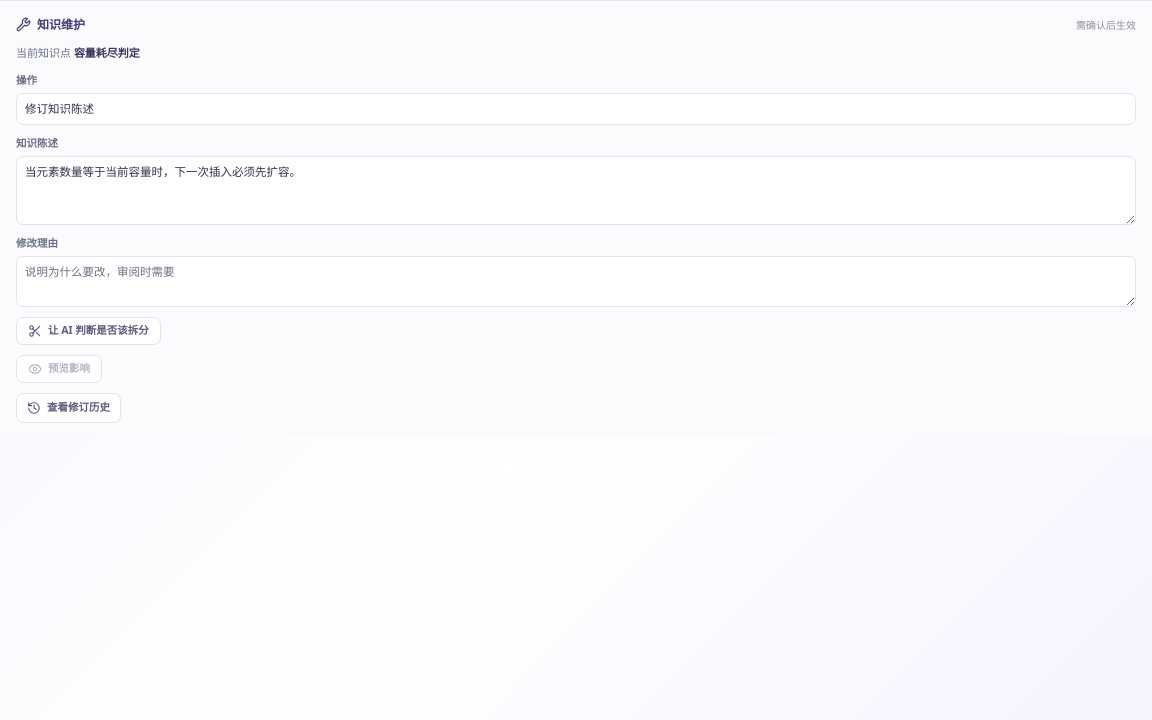
it: 知识维护面板 › 不可确认的候选禁用确认按钮并展示阻断原因
Type "补充扩容触发条件的精确表述" into the text box labelled "修改理由".
click(576, 281); type("补充扩容触发条件的精确表述")  # box [16, 256, 1136, 306]
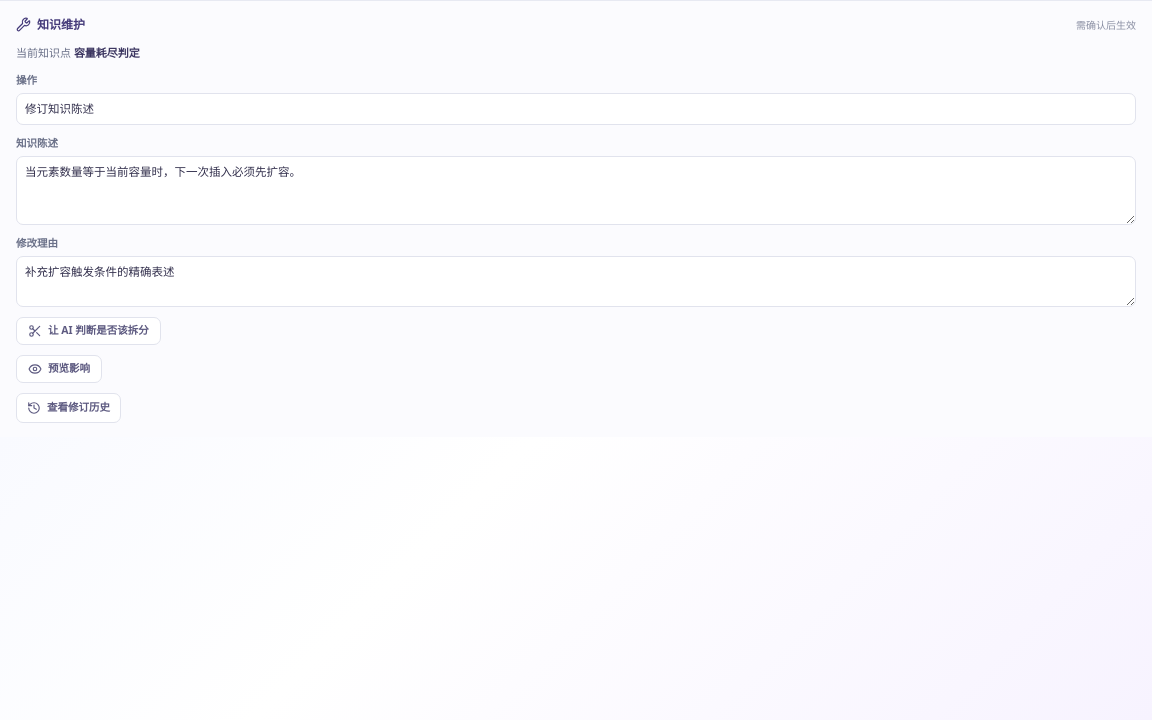
Click the button with class "is-preview".
click(59, 368)  # box [16, 354, 102, 382]
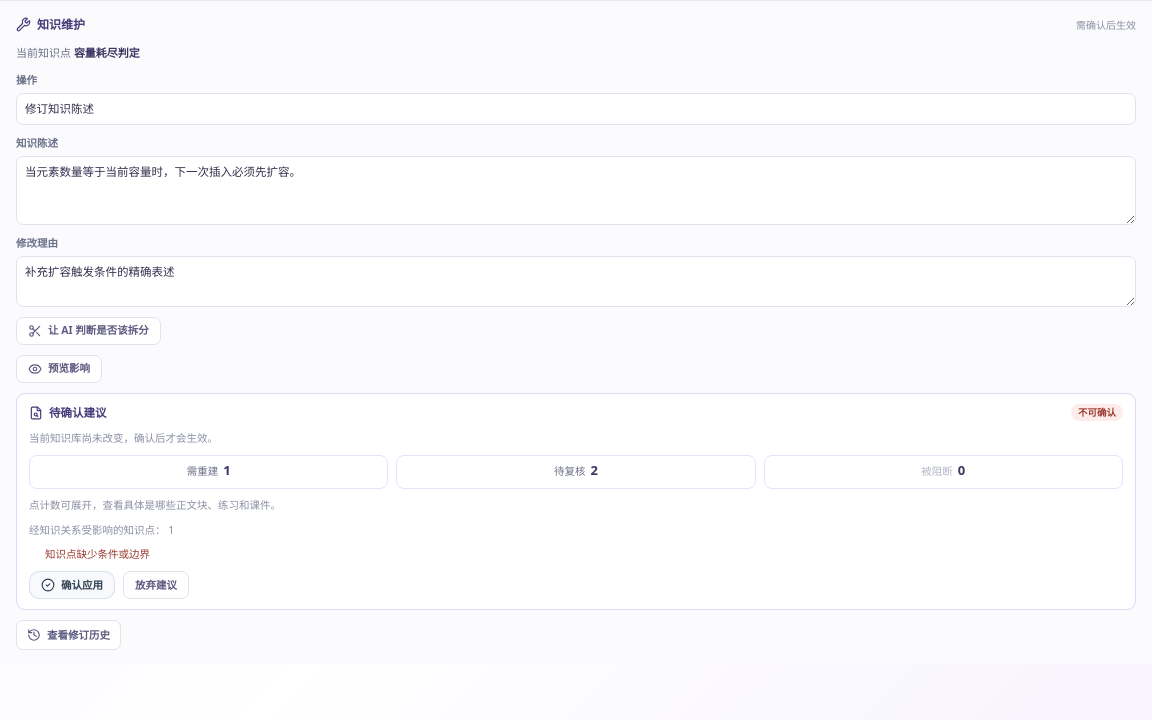
Result: the text "不可确认" is shown at [1071, 404, 1123, 421]
Result: the button with class "is-primary" is disabled at [29, 571, 115, 599]
Result: the text "知识点缺少条件或边界" is shown at [45, 547, 150, 561]
